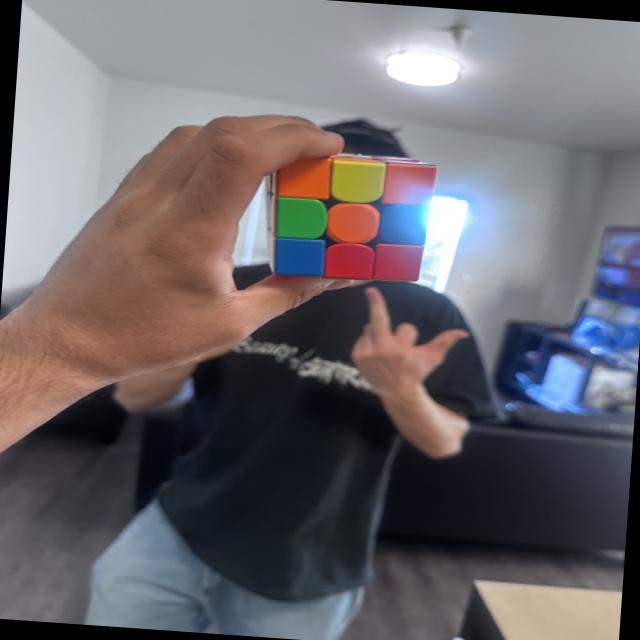sticker: (275, 155, 332, 199), (381, 163, 437, 207), (331, 160, 385, 204), (274, 198, 328, 240), (326, 201, 380, 242), (372, 242, 424, 282), (377, 205, 430, 244), (274, 238, 325, 277), (323, 241, 375, 279)
